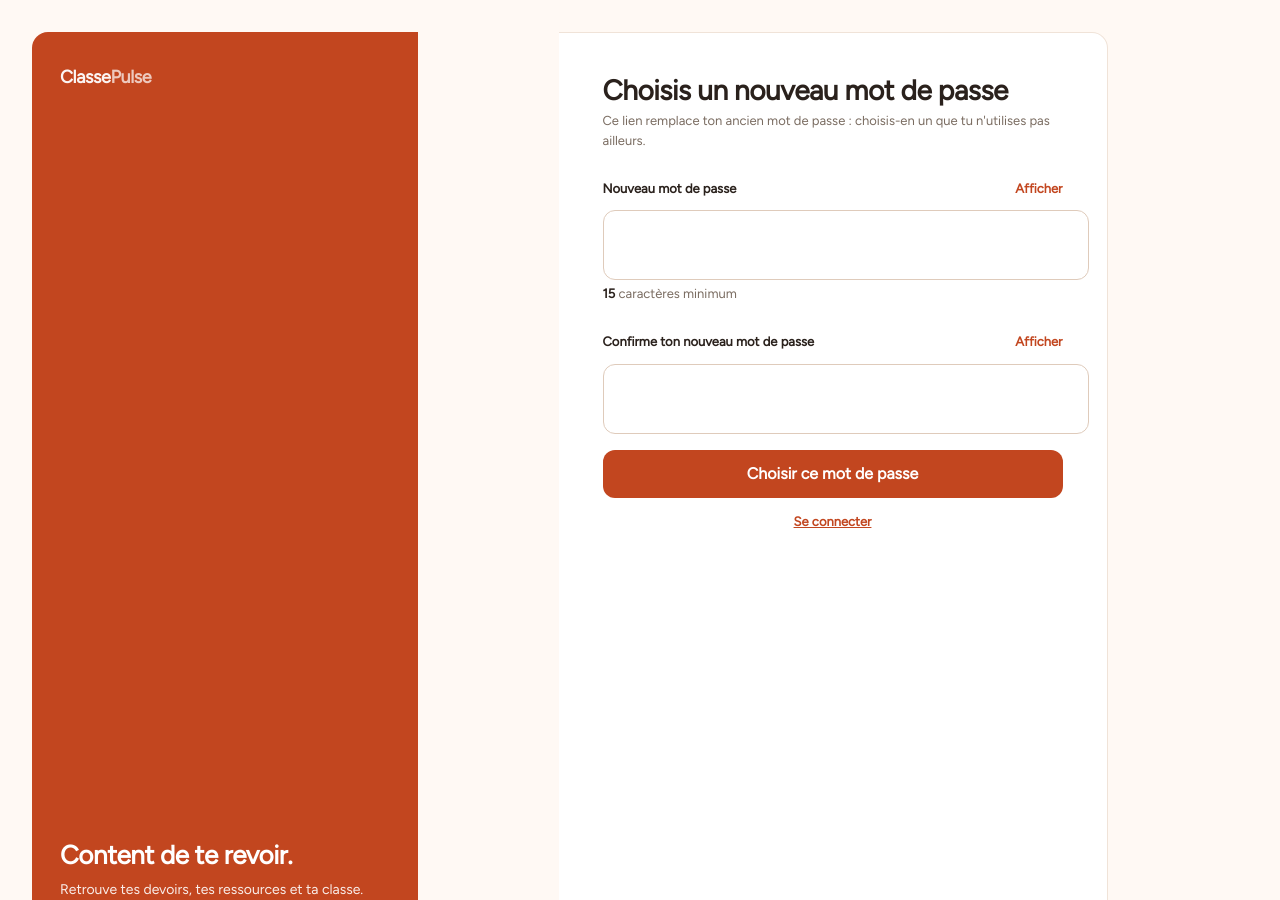
Scenario: réinitialisation du mot de passe (§ 3.2) › jeton refusé : message et lien vers une nouvelle demande, contenu conservé
Type "une phrase de passe neuve" into the password field labelled "Nouveau mot de passe". click: (846, 245)
box: x1=602 y1=210 x2=1088 y2=280
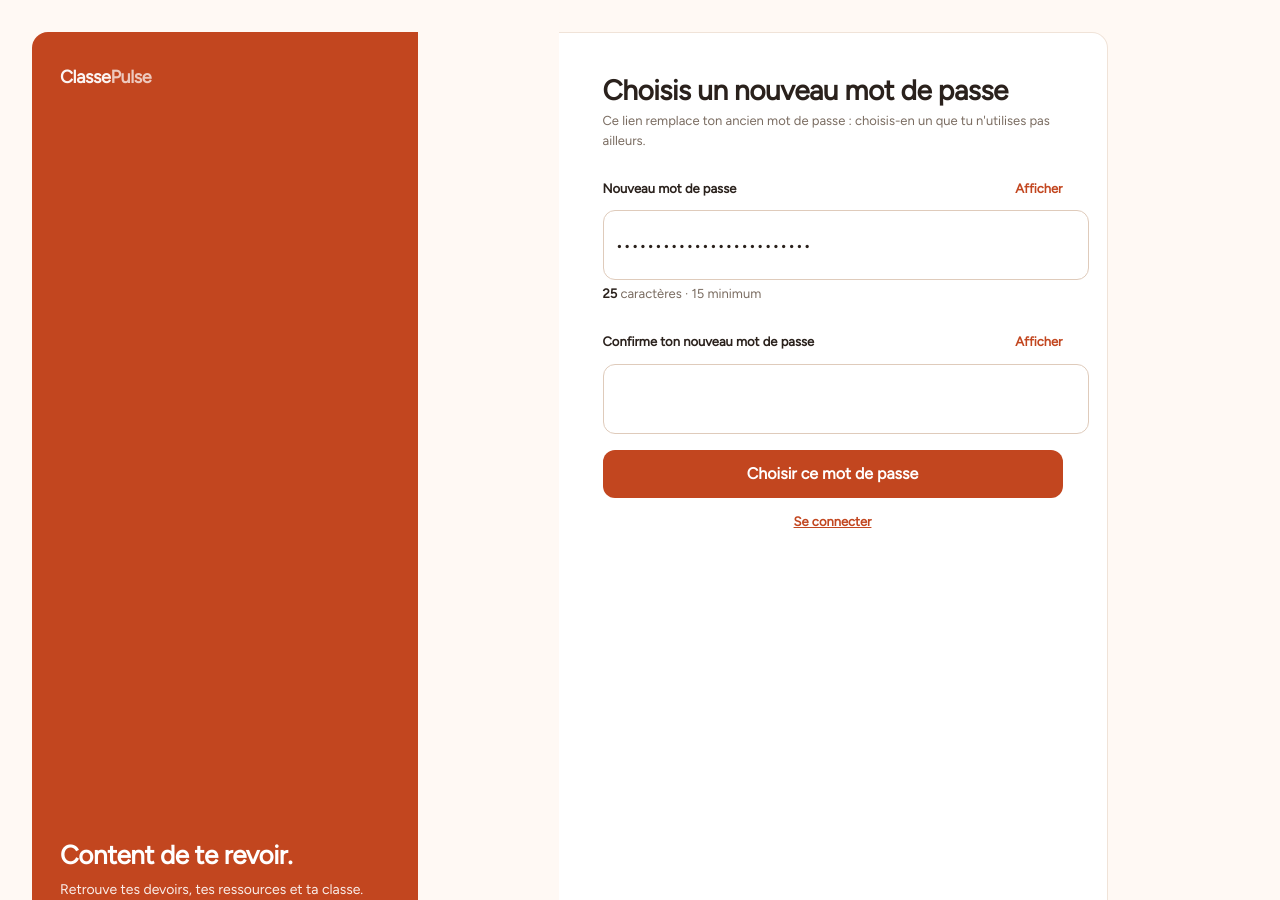
Type "une phrase de passe neuve" into the password field labelled "Confirme ton nouveau mot de passe". click: (846, 398)
box: x1=602 y1=364 x2=1088 y2=434
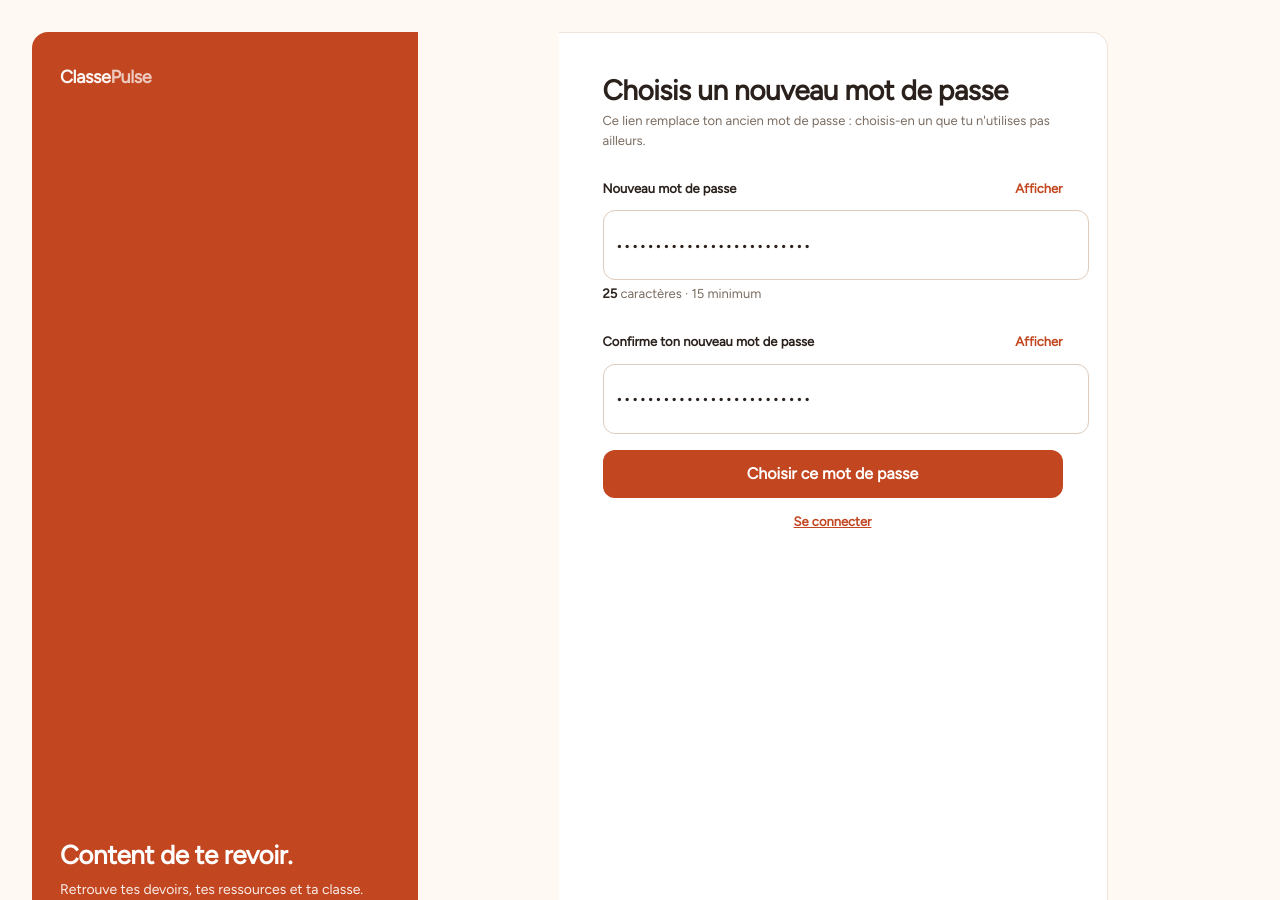
Click the button "Choisir ce mot de passe". click: (832, 474)
box: x1=602 y1=450 x2=1062 y2=498
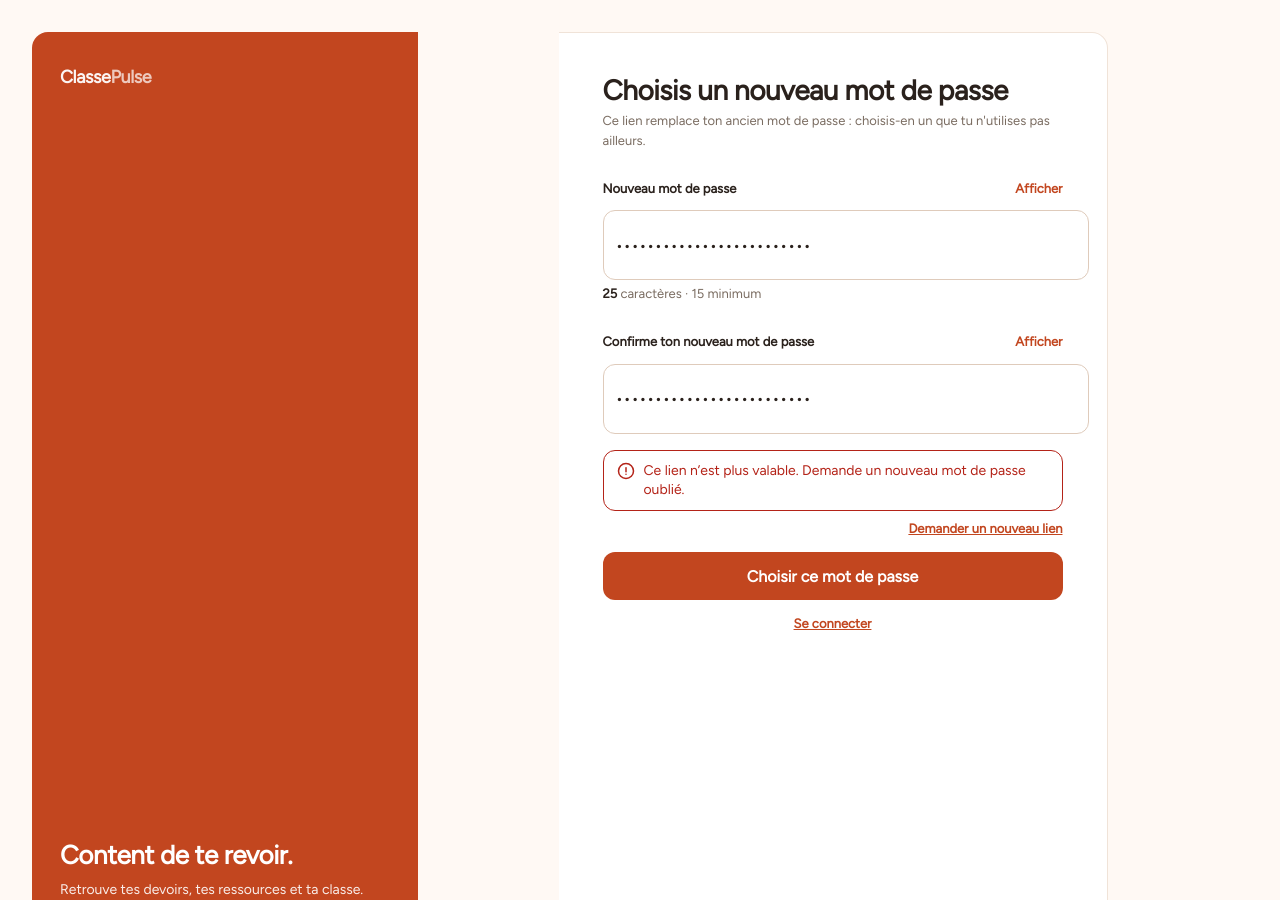
Expected: the message reads "Ce lien n’est plus valable. Demande un nouveau mot de passe oublié.", x1=644 y1=462 x2=1026 y2=498
Expected: the link "Demander un nouveau lien" is shown, x1=908 y1=521 x2=1062 y2=536
